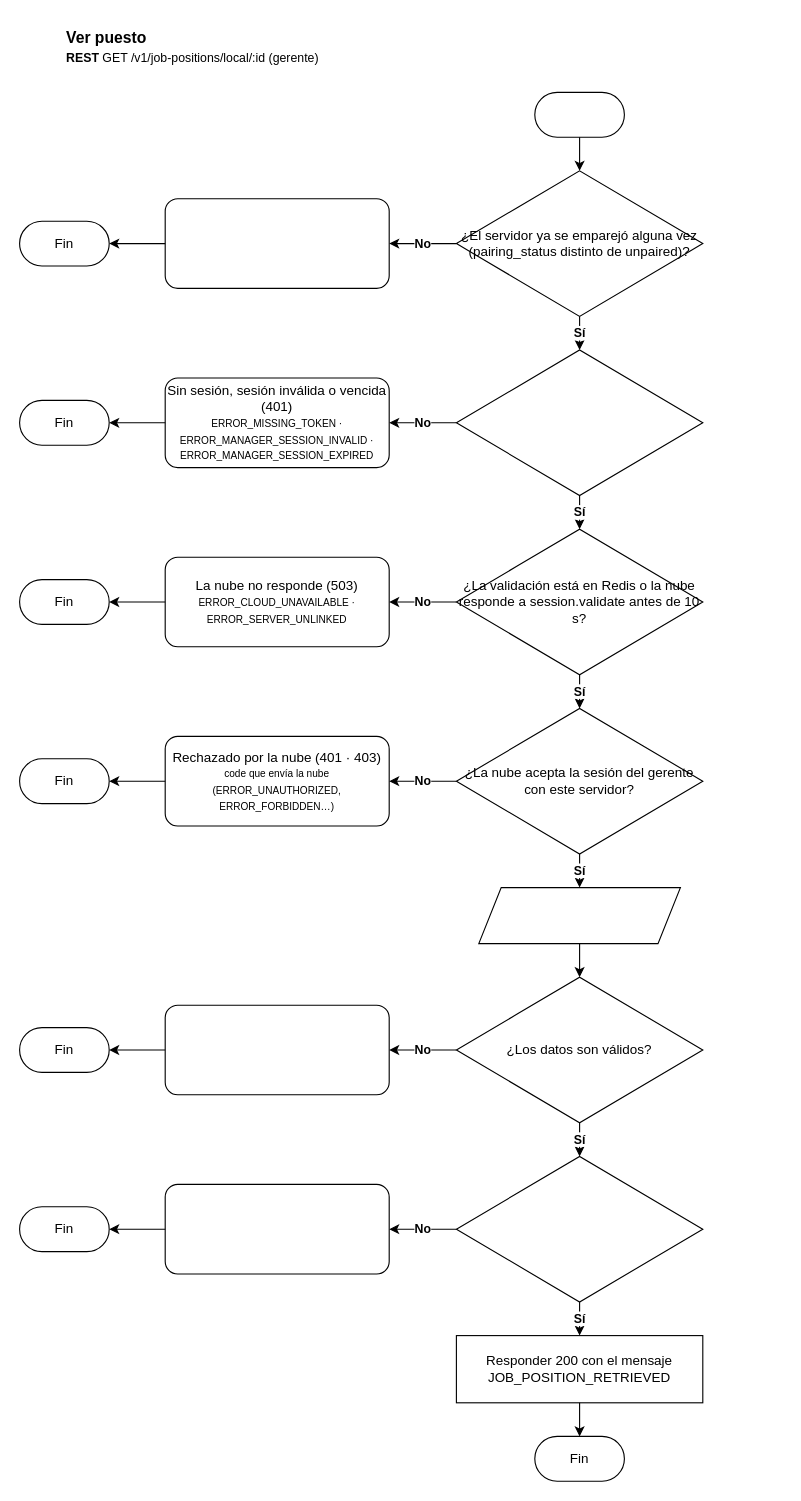
Image size: 801x1501. Some labels were removed from this diagram. Here are the shapes that lost their labels. From the top down, the centre of each, then its label:
the point at 579,114: Inicio
the point at 276,243: Servidor sin emparejar (409) ERROR_SERVER_NOT_PAIRED
the point at 579,422: ¿Trae una sesión de gerente válida (Bearer mss_..., sin 30 min de inactividad)?
the point at 579,915: Recibir datos
the point at 276,1049: Datos inválidos (400) ERROR_BAD_REQUEST
the point at 276,1228: No se encontró el puesto (404) ERROR_JOB_POSITION_NOT_FOUND
the point at 579,1228: ¿Existe el puesto?
